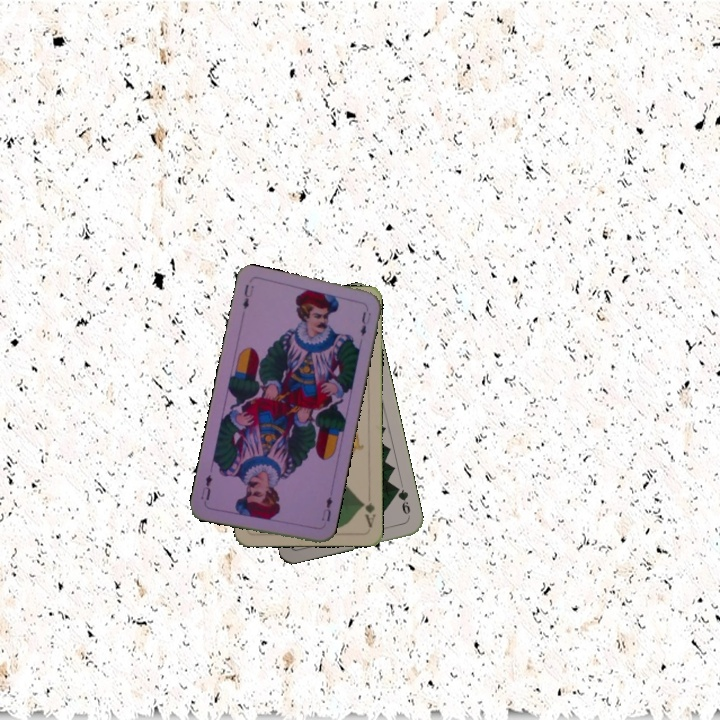EU: (239, 280, 256, 312), (318, 493, 335, 524)
G9: (391, 482, 413, 521)
GA: (358, 498, 378, 530)
